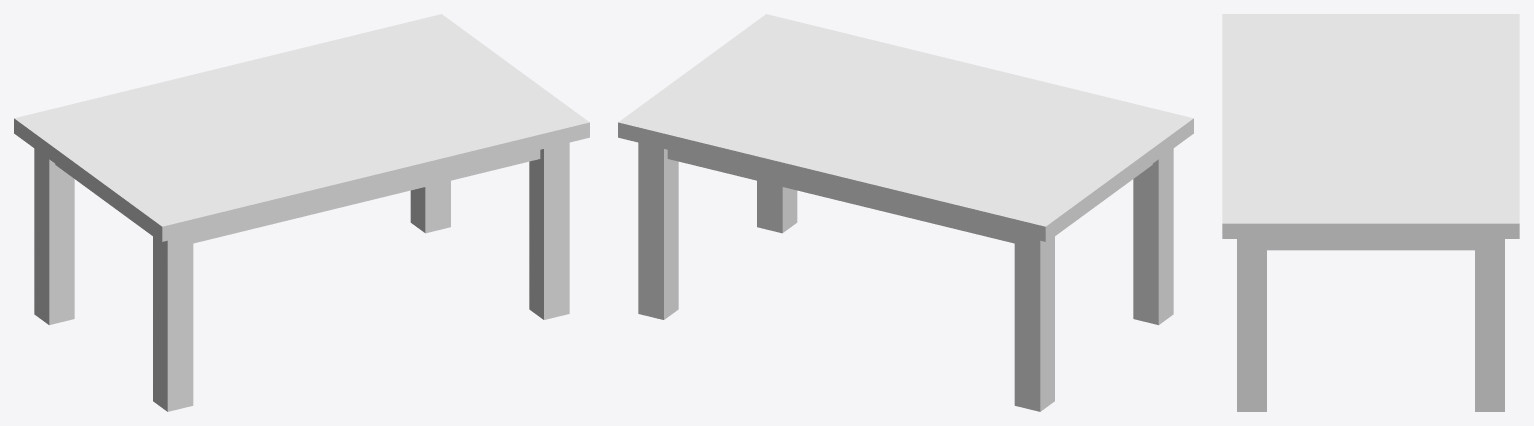
The model's file is Table_1A.fbx.
3 renders of one model, left to right at view 1: azimuth 30°, elevation 25°; view 2: azimuth 150°, elevation 25°; view 3: azimuth 270°, elevation 25°, orthographic.
Parts seen in each view (by area): view 1: polySurface1512; view 2: polySurface1512; view 3: polySurface1512.
Part boxes in pixels (x1,y1,x2,y2): polySurface1512: (14, 14, 589, 411); polySurface1512: (618, 14, 1193, 411); polySurface1512: (1222, 14, 1519, 411).
Size of the model in its own units: 2.5 by 1.08 by 1.5.
1 material, 1 textured.
